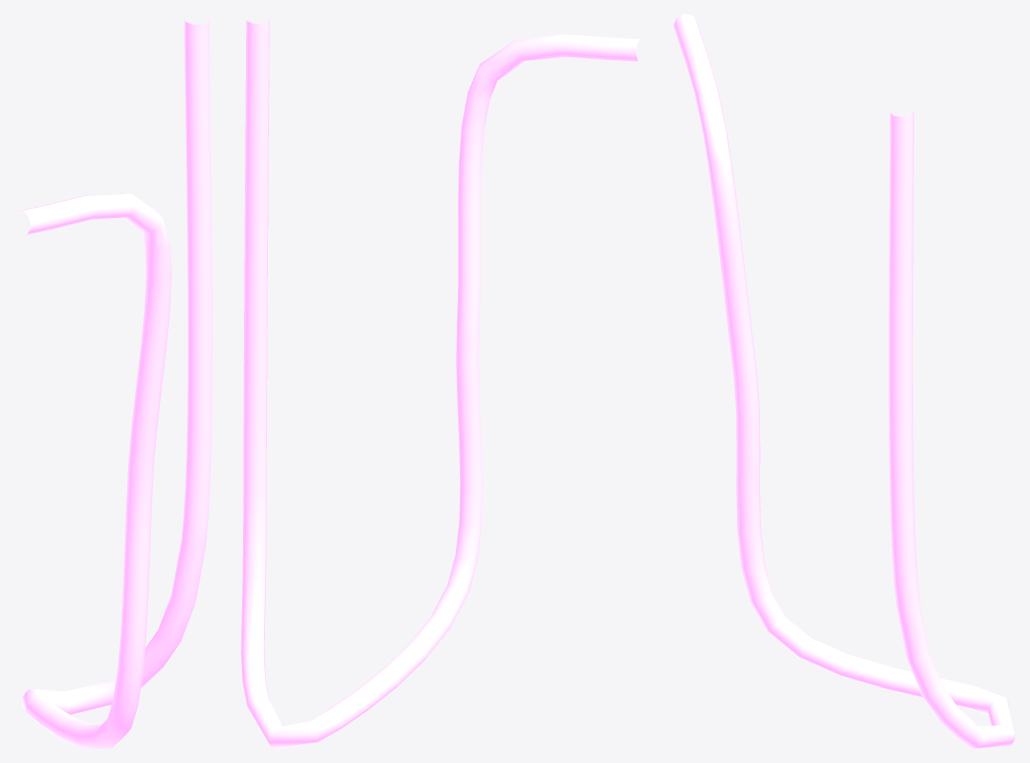
Rendered from SM_TD2_Cable_L_Turn_Lit.gltf.
The picture shows the model from 3 angles, left to right: view 1: azimuth 30°, elevation 25°; view 2: azimuth 150°, elevation 25°; view 3: azimuth 270°, elevation 25°; orthographic projection. The views are drawn at different scales.
Visible parts, largest first — view 1: SM_TD2_Cable_L_Turn_Lit; view 2: SM_TD2_Cable_L_Turn_Lit; view 3: SM_TD2_Cable_L_Turn_Lit.
Part boxes in pixels (<box>): SM_TD2_Cable_L_Turn_Lit: <box>19,18,212,748</box>; SM_TD2_Cable_L_Turn_Lit: <box>241,18,639,748</box>; SM_TD2_Cable_L_Turn_Lit: <box>673,14,1015,748</box>.
Size of the model in its own units: 0.5492 by 1.23 by 0.5686.
